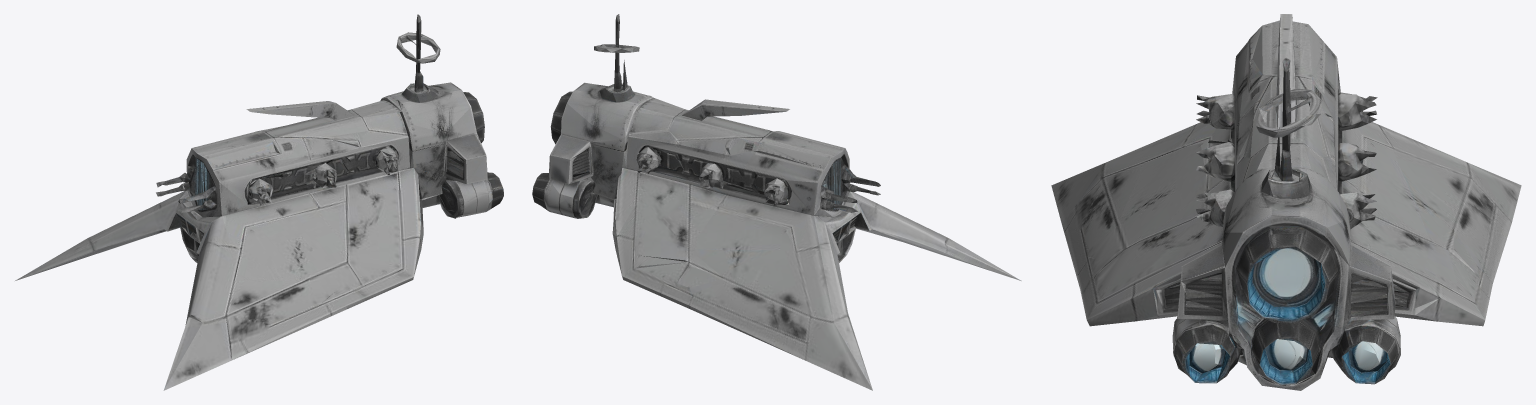
Rendered from Enemy8-v2.glb.
3 views of the same model, side by side, from view 1: azimuth 30°, elevation 25°; view 2: azimuth 150°, elevation 25°; view 3: azimuth 270°, elevation 25° (orthographic). The views are drawn at different scales.
Visible parts, largest first — view 1: output_unwrapped; view 2: output_unwrapped; view 3: output_unwrapped.
Boxes of the visible parts, x1,y1,x2,y2 form: output_unwrapped: [15, 14, 503, 390]; output_unwrapped: [532, 14, 1021, 390]; output_unwrapped: [1051, 14, 1521, 390].
Bounding box in the file's own units: 1.9 × 1.13 × 1.27.
Materials: 1 (1 with a texture image).
